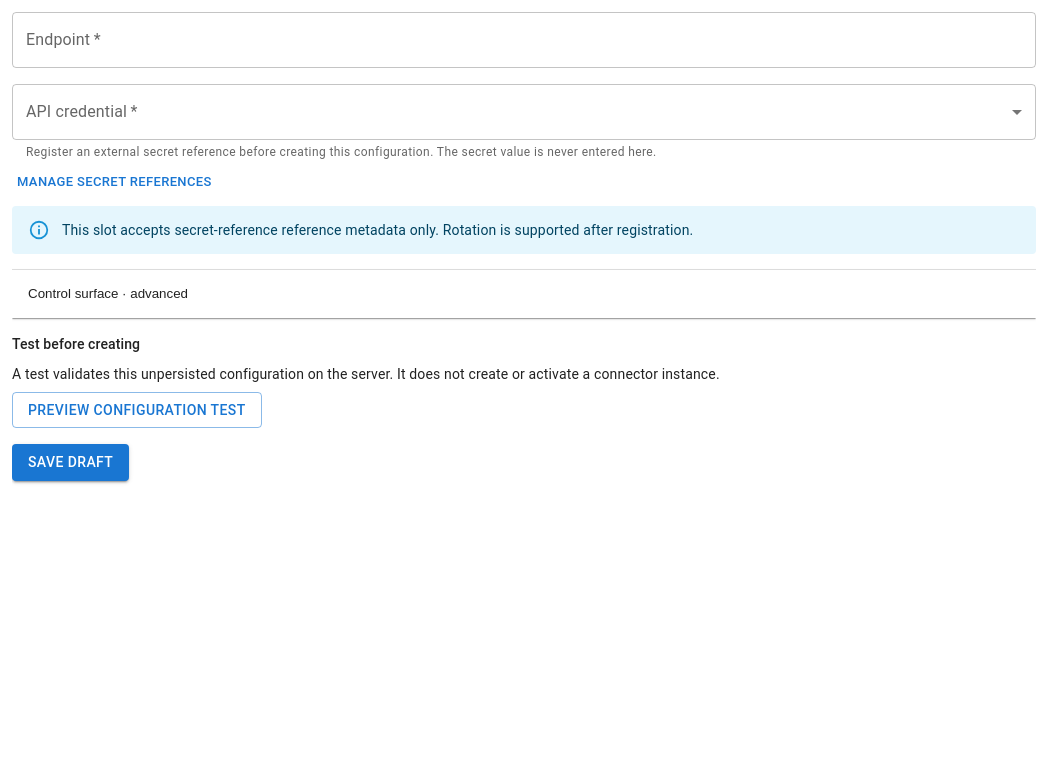
Test case: DescriptorForm › requires a fresh server confirmation before running an unpersisted configuration test
Type "https://bridge.example.test" into the field at (524, 40), box [12,12,1036,68]
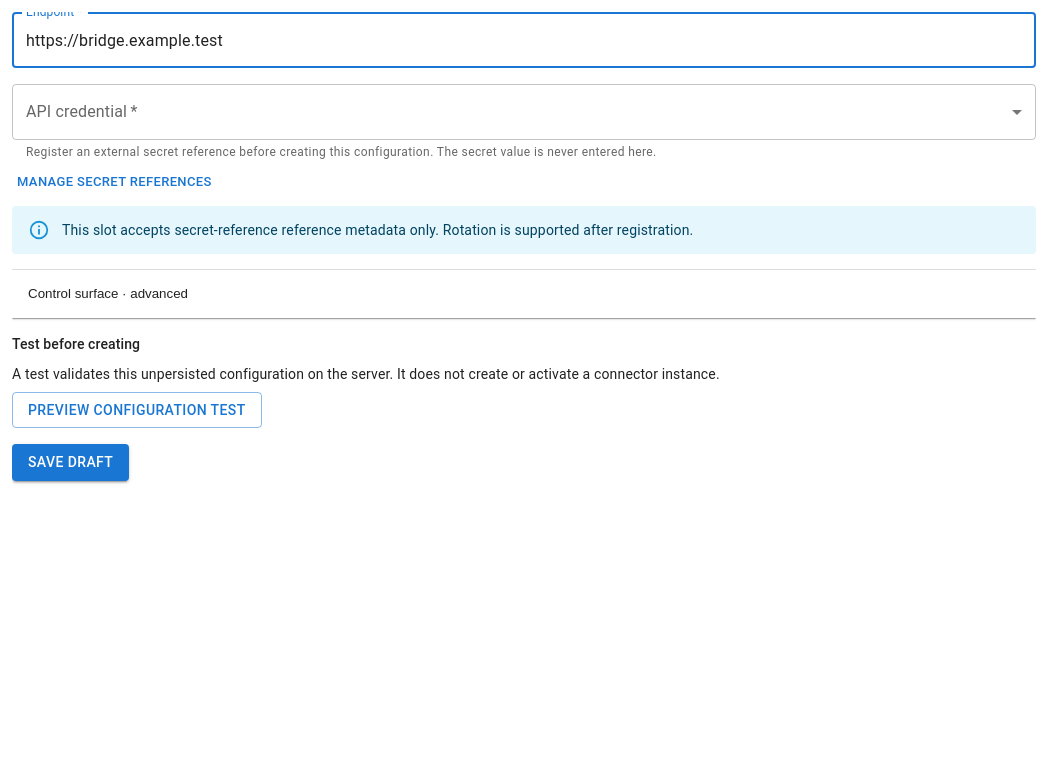
Click the button "Preview configuration test" at (137, 410), box [12,392,262,428]
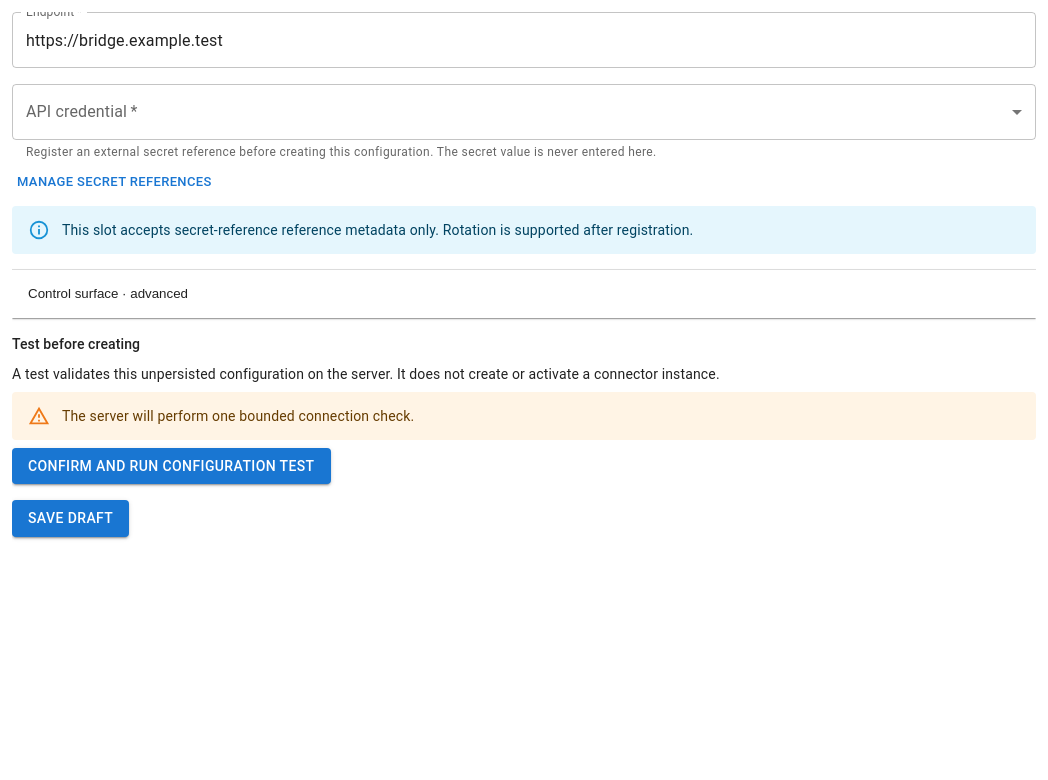
Result: the button "Confirm and run configuration test" is shown at [12,448,330,484]
Type "/changed" into the field at (524, 40), box [12,12,1036,68]
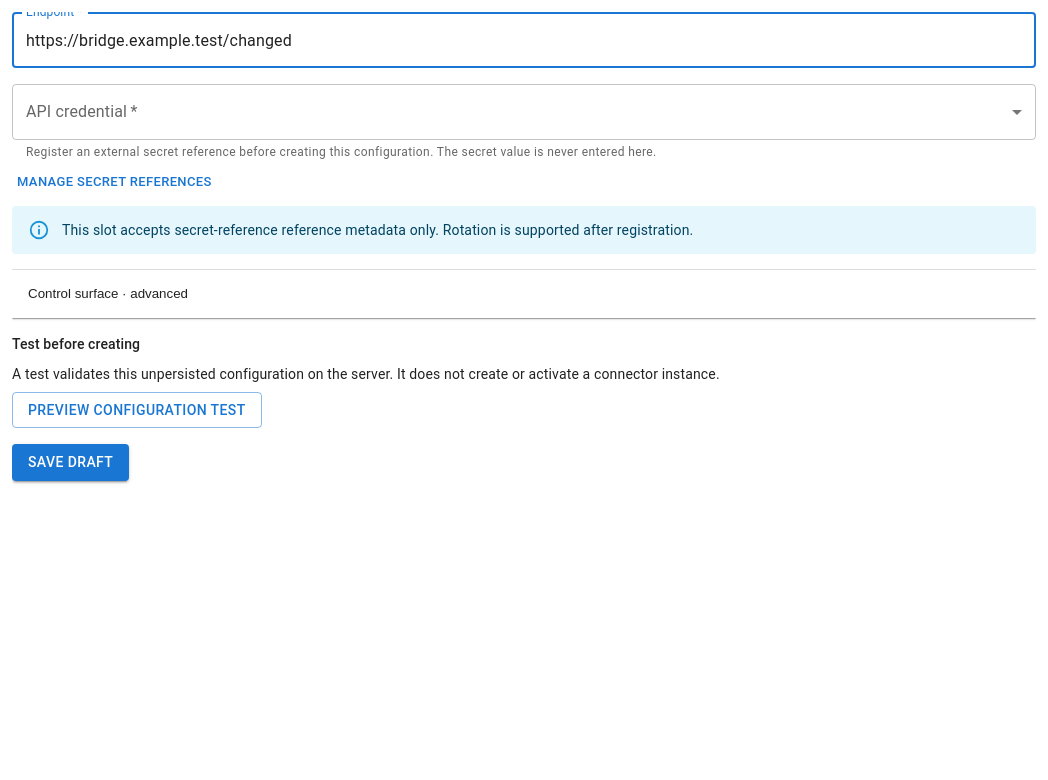
Result: the button "Confirm and run configuration test" is gone
Click the button "Preview configuration test" at (137, 410), box [12,392,262,428]
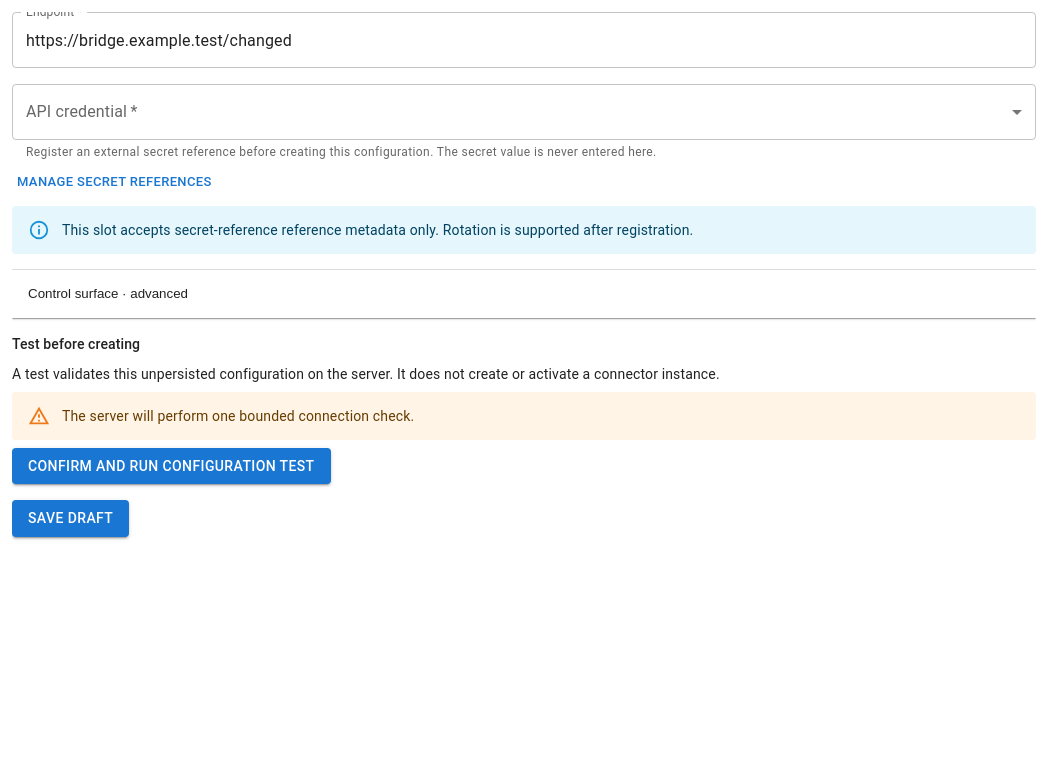
Click the button "Confirm and run configuration test" at (171, 466), box [12,448,330,484]
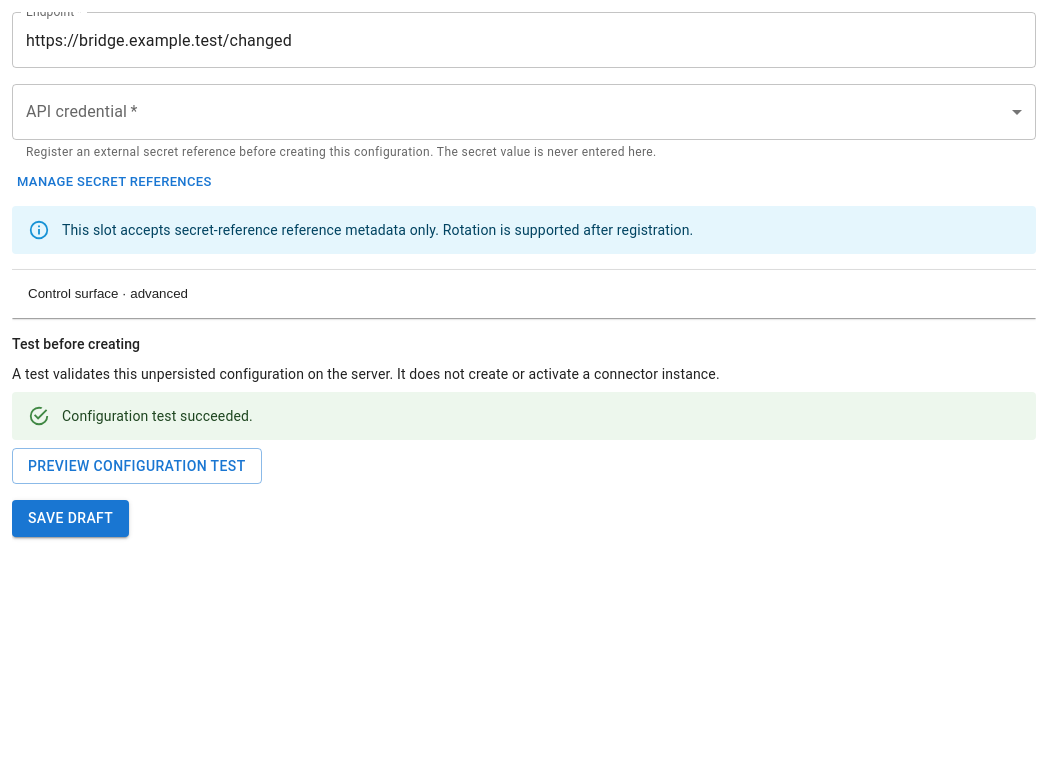
Result: the text "Configuration test succeeded." is shown at [62,408,253,424]
